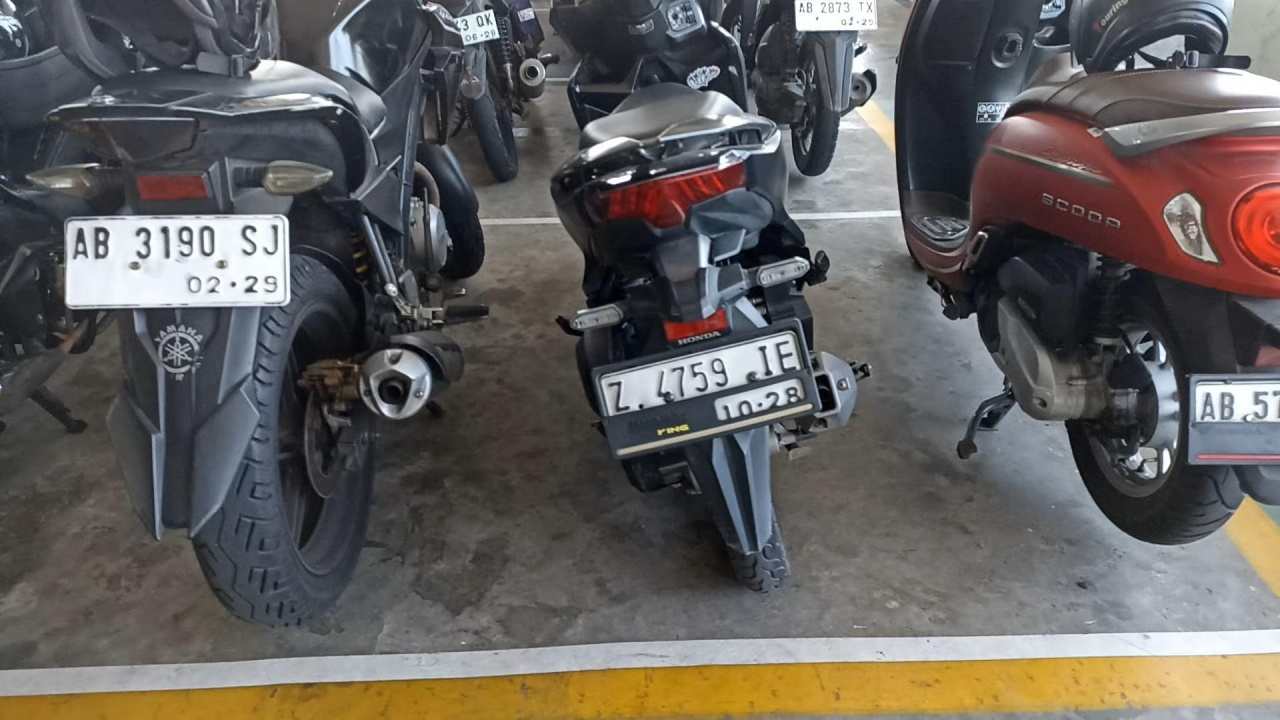plate: (595, 324, 820, 459), (67, 217, 288, 307)
